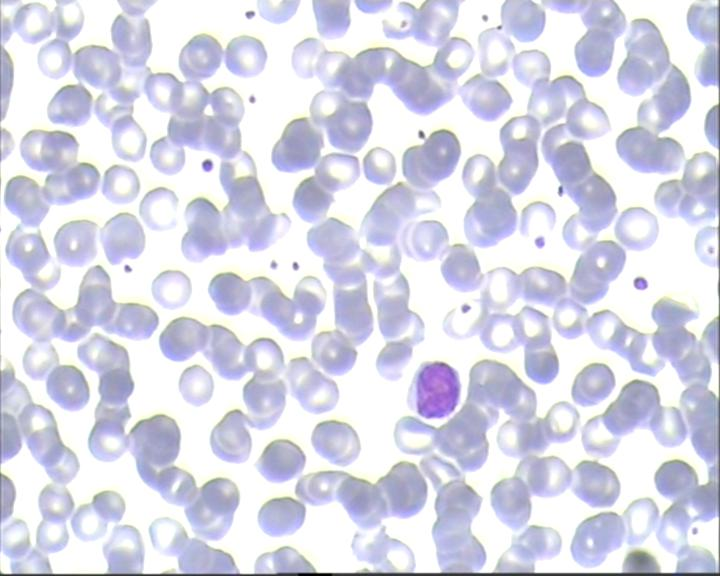lymp: (401, 360, 464, 421)
